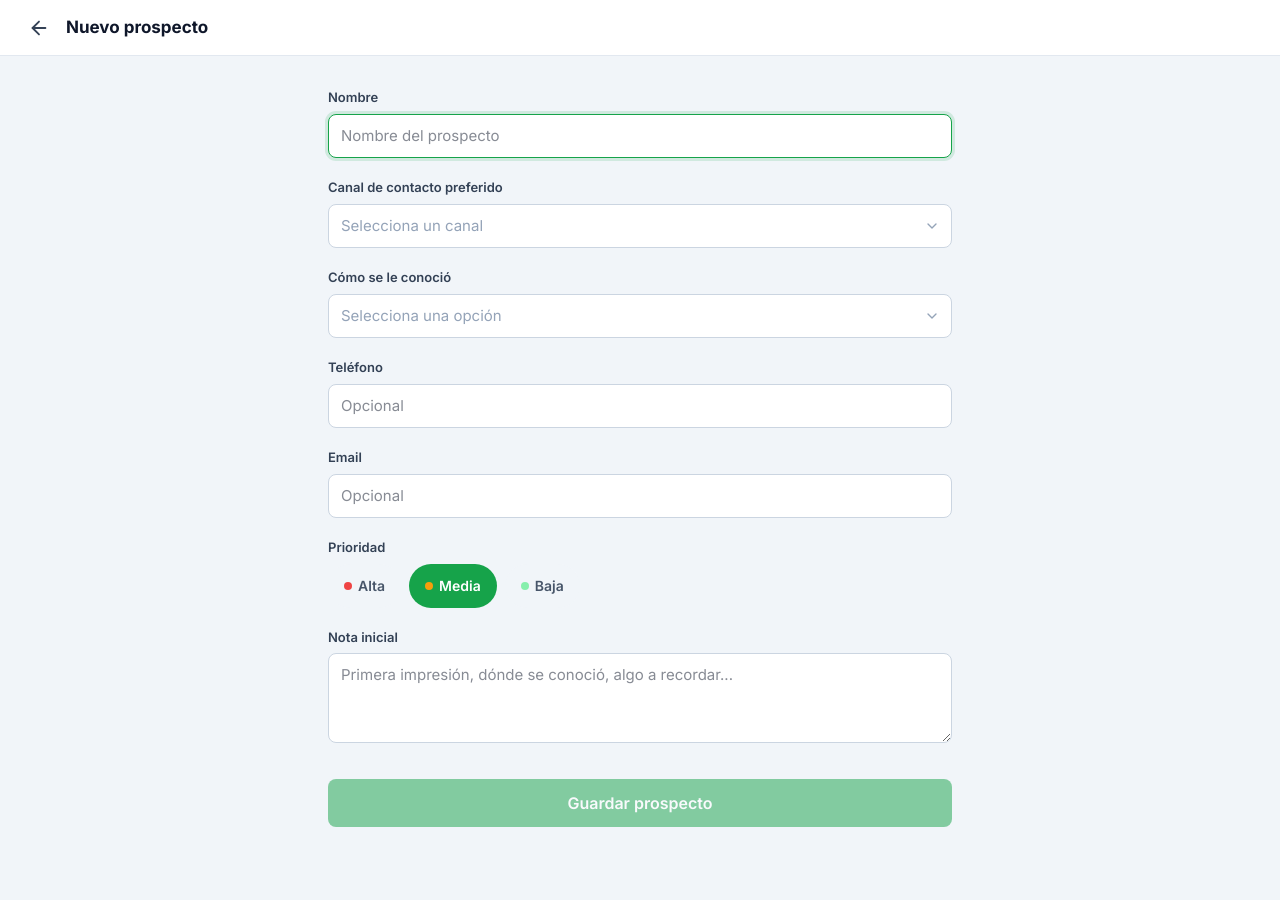
Test case: estados y validación en cliente (JOS-15) › Guardar está deshabilitado hasta completar los 3 obligatorios (estados de JOS-60)
The width and height of the screenshot is (1280, 900).
Check: the button "Guardar prospecto" is disabled, box left=328, top=778, right=952, bottom=826
Type "Ana Pérez" into the field labelled "Nombre" at (640, 136), box left=328, top=114, right=952, bottom=158
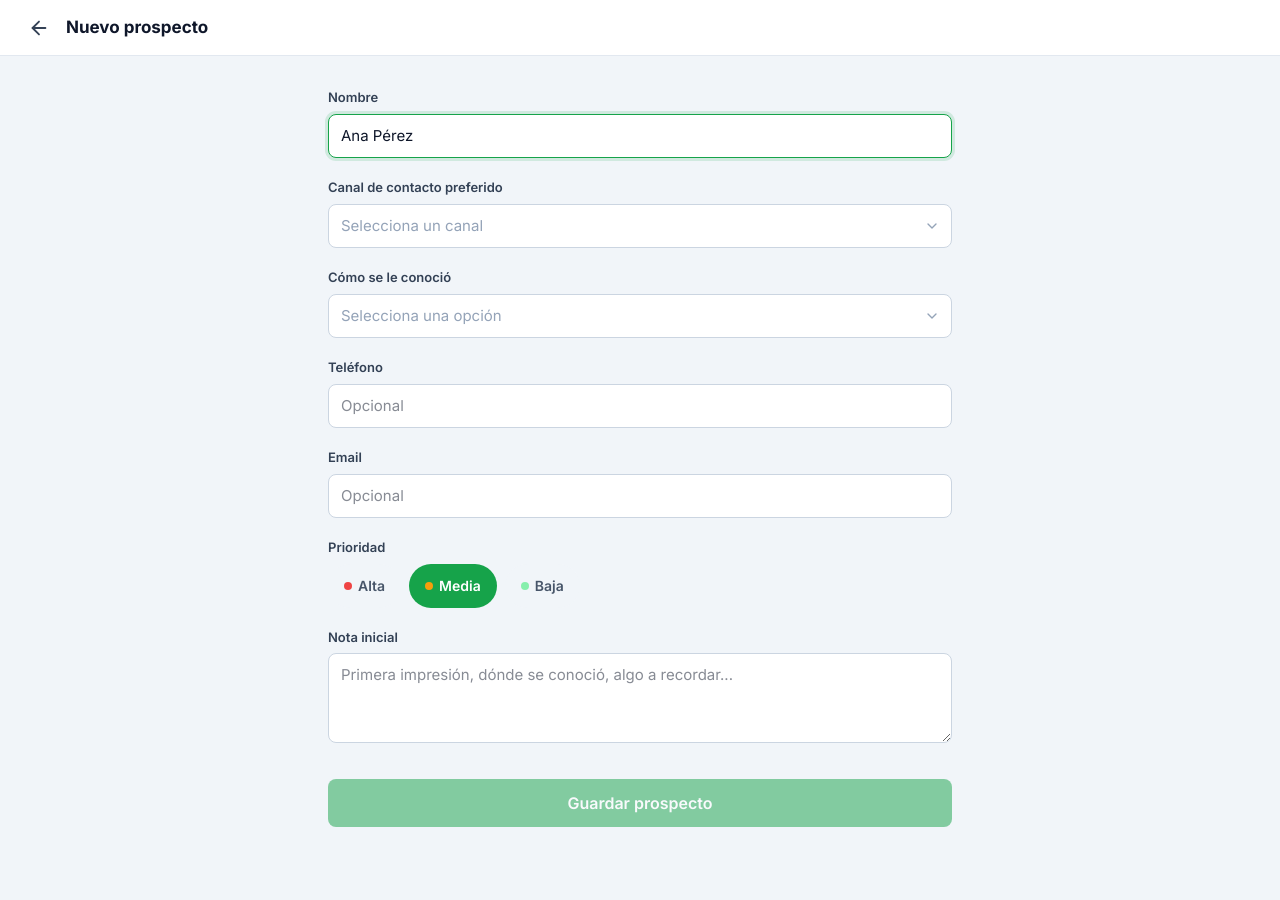
Check: the button "Guardar prospecto" is disabled, box left=328, top=778, right=952, bottom=826
Select "WhatsApp" in the dropdown labelled "Canal de contacto preferido" at (640, 226), box left=328, top=204, right=952, bottom=248
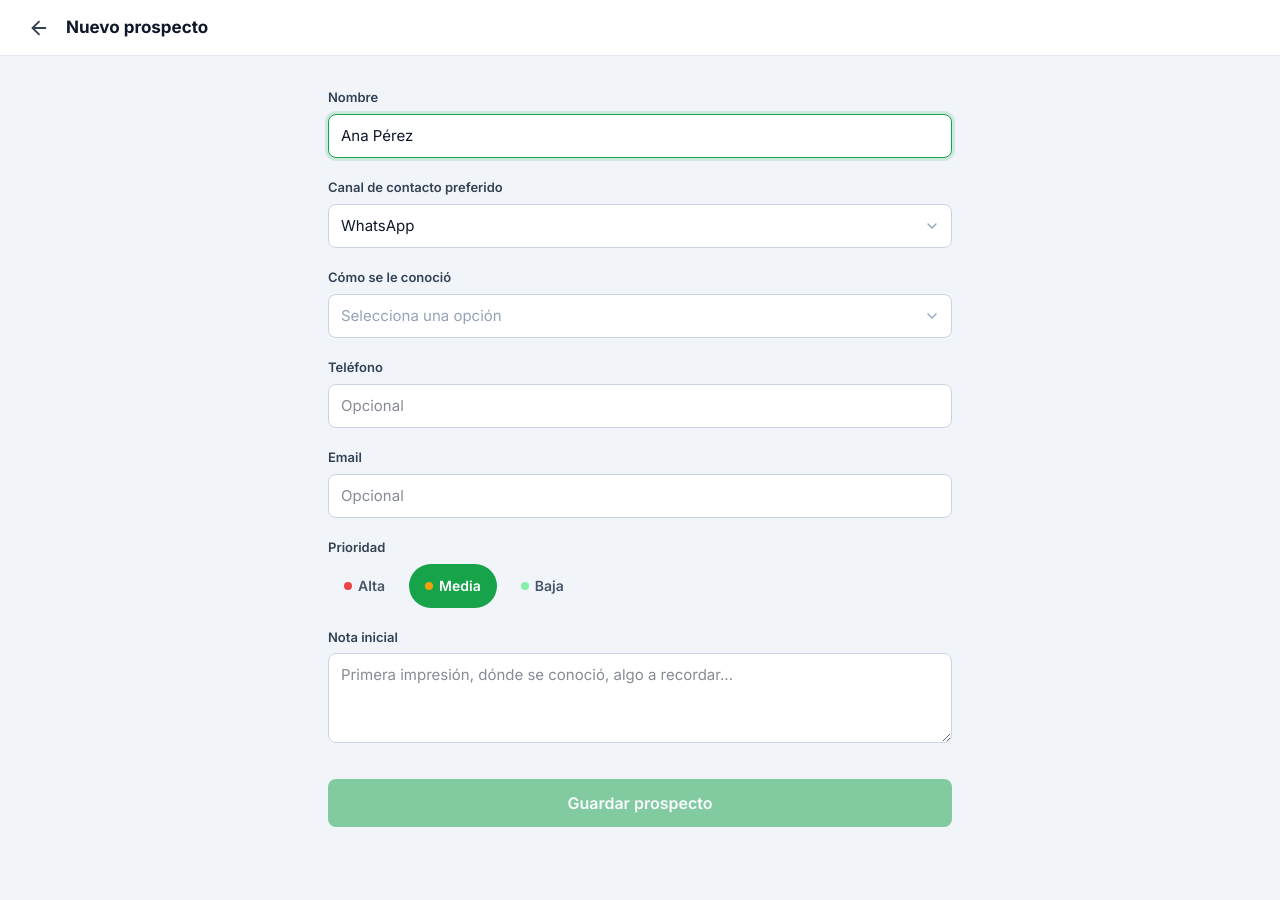
Check: the button "Guardar prospecto" is disabled, box left=328, top=778, right=952, bottom=826
Select "Evento" in the dropdown labelled "Cómo se le conoció" at (640, 316), box left=328, top=294, right=952, bottom=338
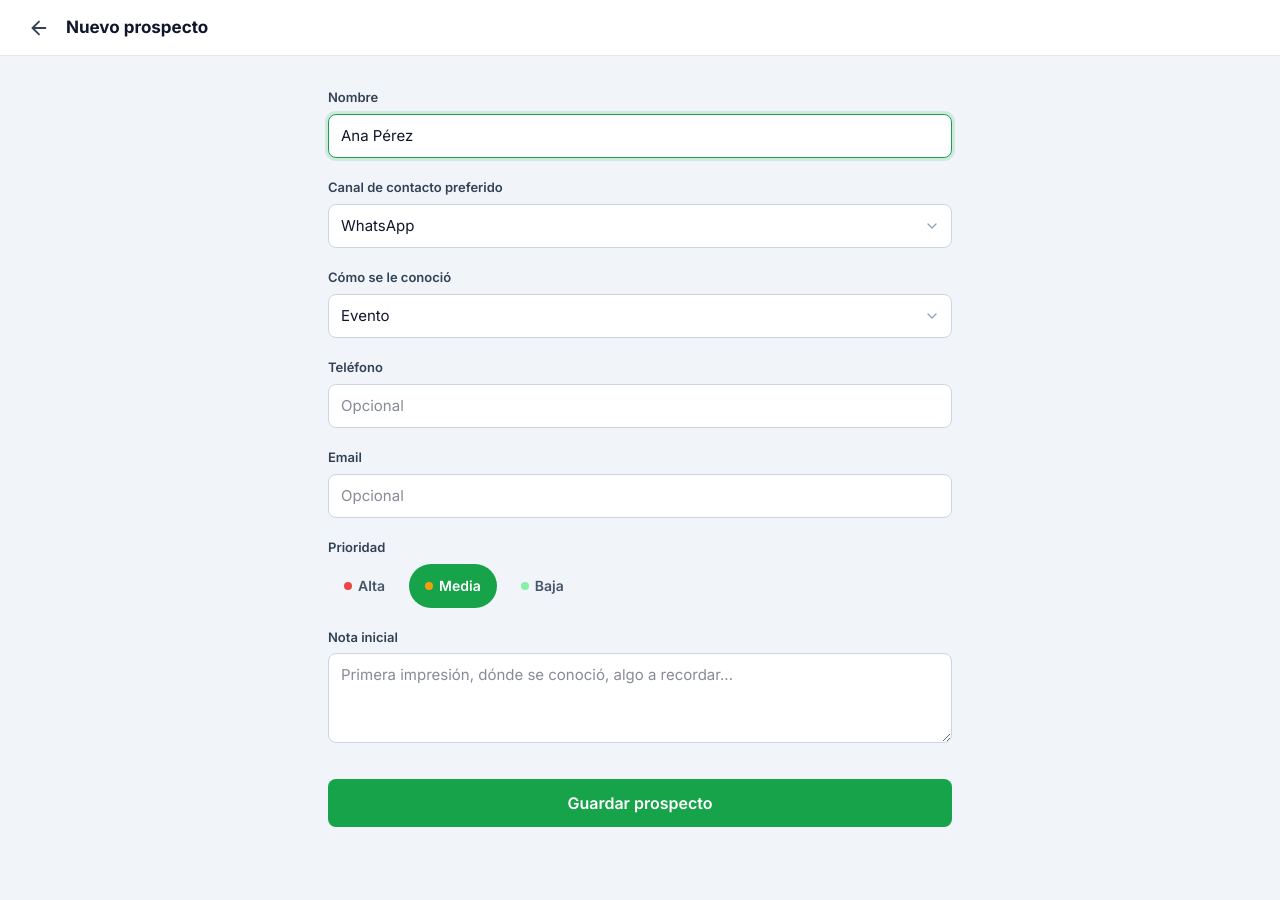
Check: the button "Guardar prospecto" is enabled, box left=328, top=778, right=952, bottom=826
